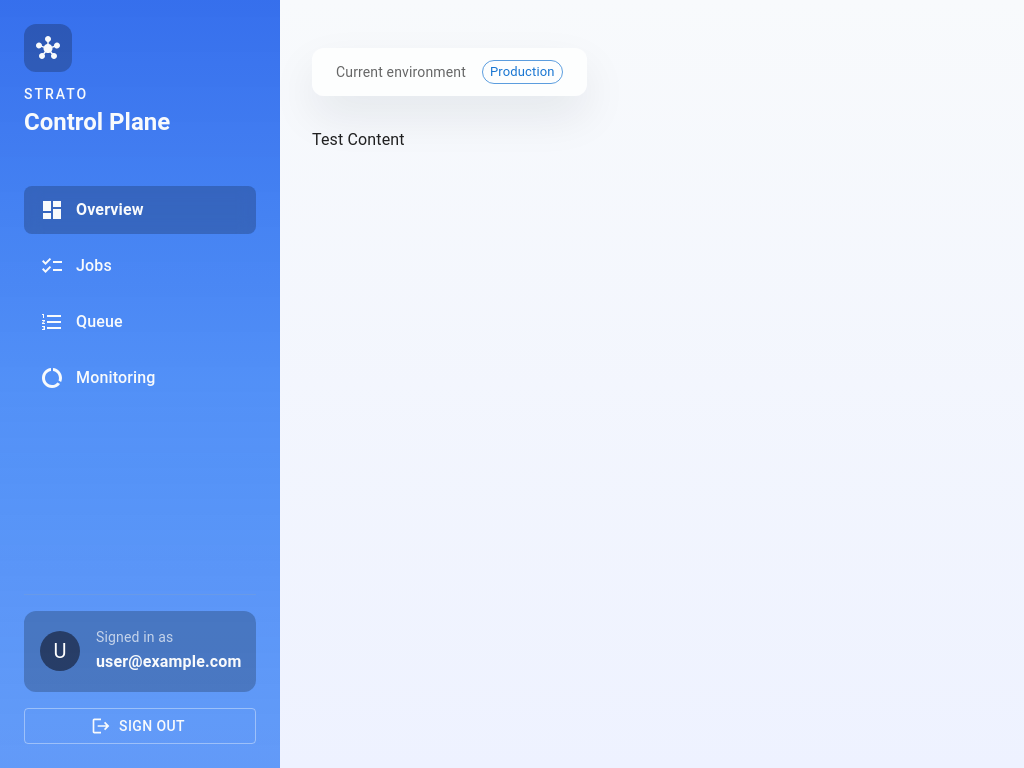
Test: DashboardShell › Profile Button › closes logout dialog when cancel is clicked
The image size is (1024, 768).
Step 1. Click the button "Sign out" → (140, 726), box [24,708,256,744]
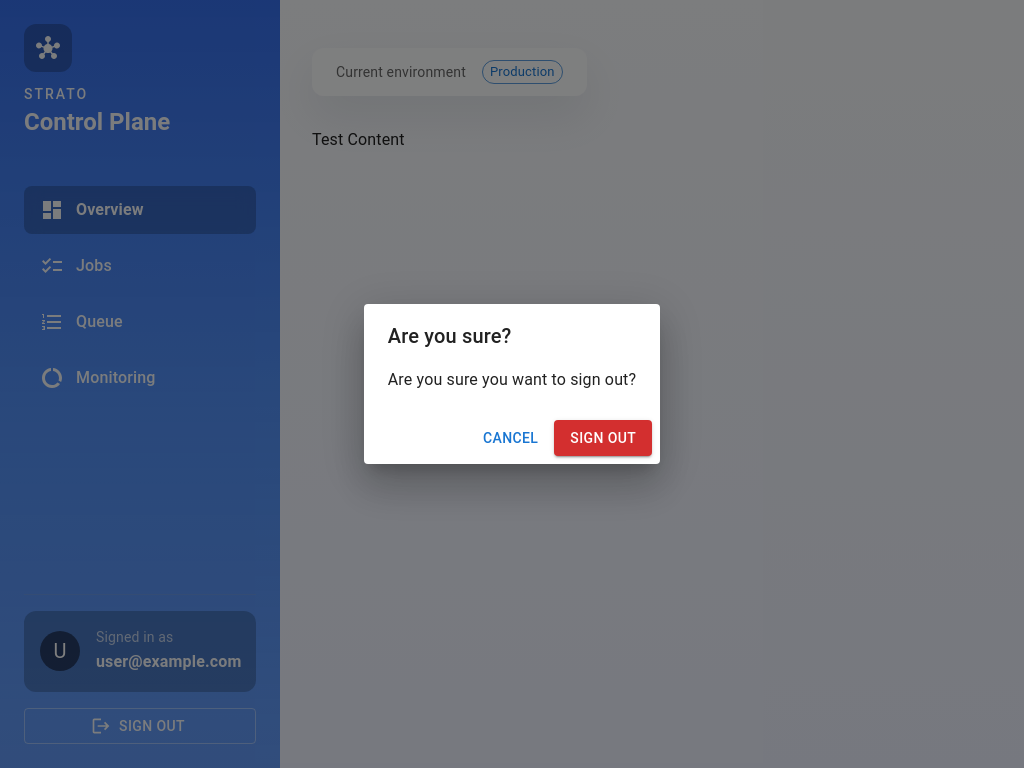
Check: the heading "Are you sure?" is shown, box [388,324,512,348]
Step 2. Click the button "Cancel" → (511, 438), box [475,420,546,456]
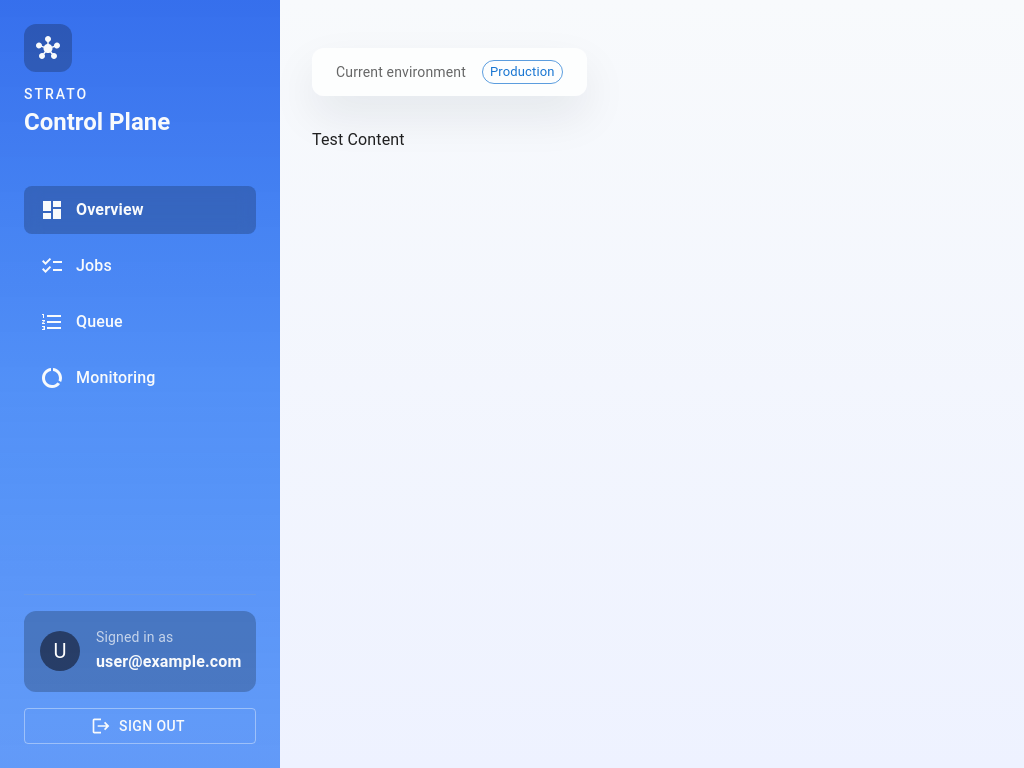
Check: the heading "Are you sure?" is gone
